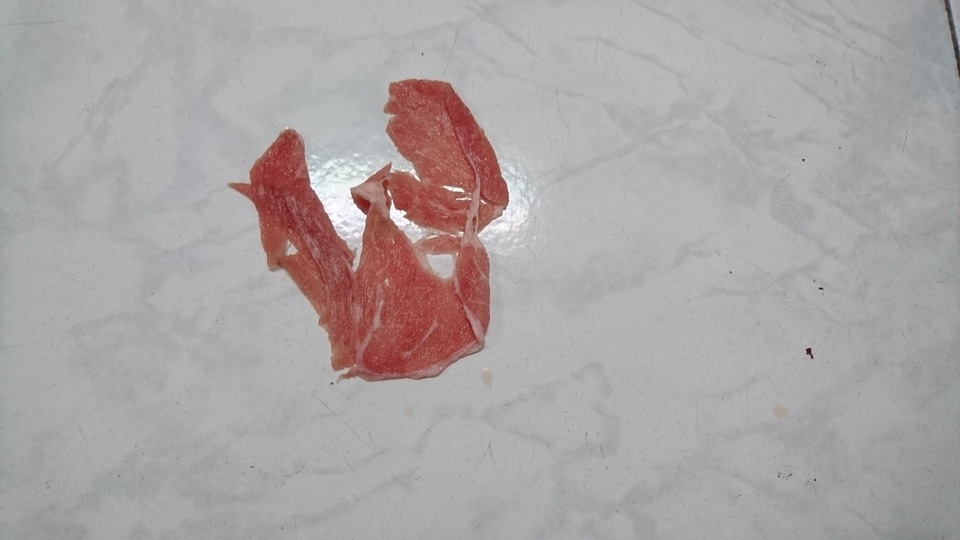restructured meat: (255, 61, 530, 385)
